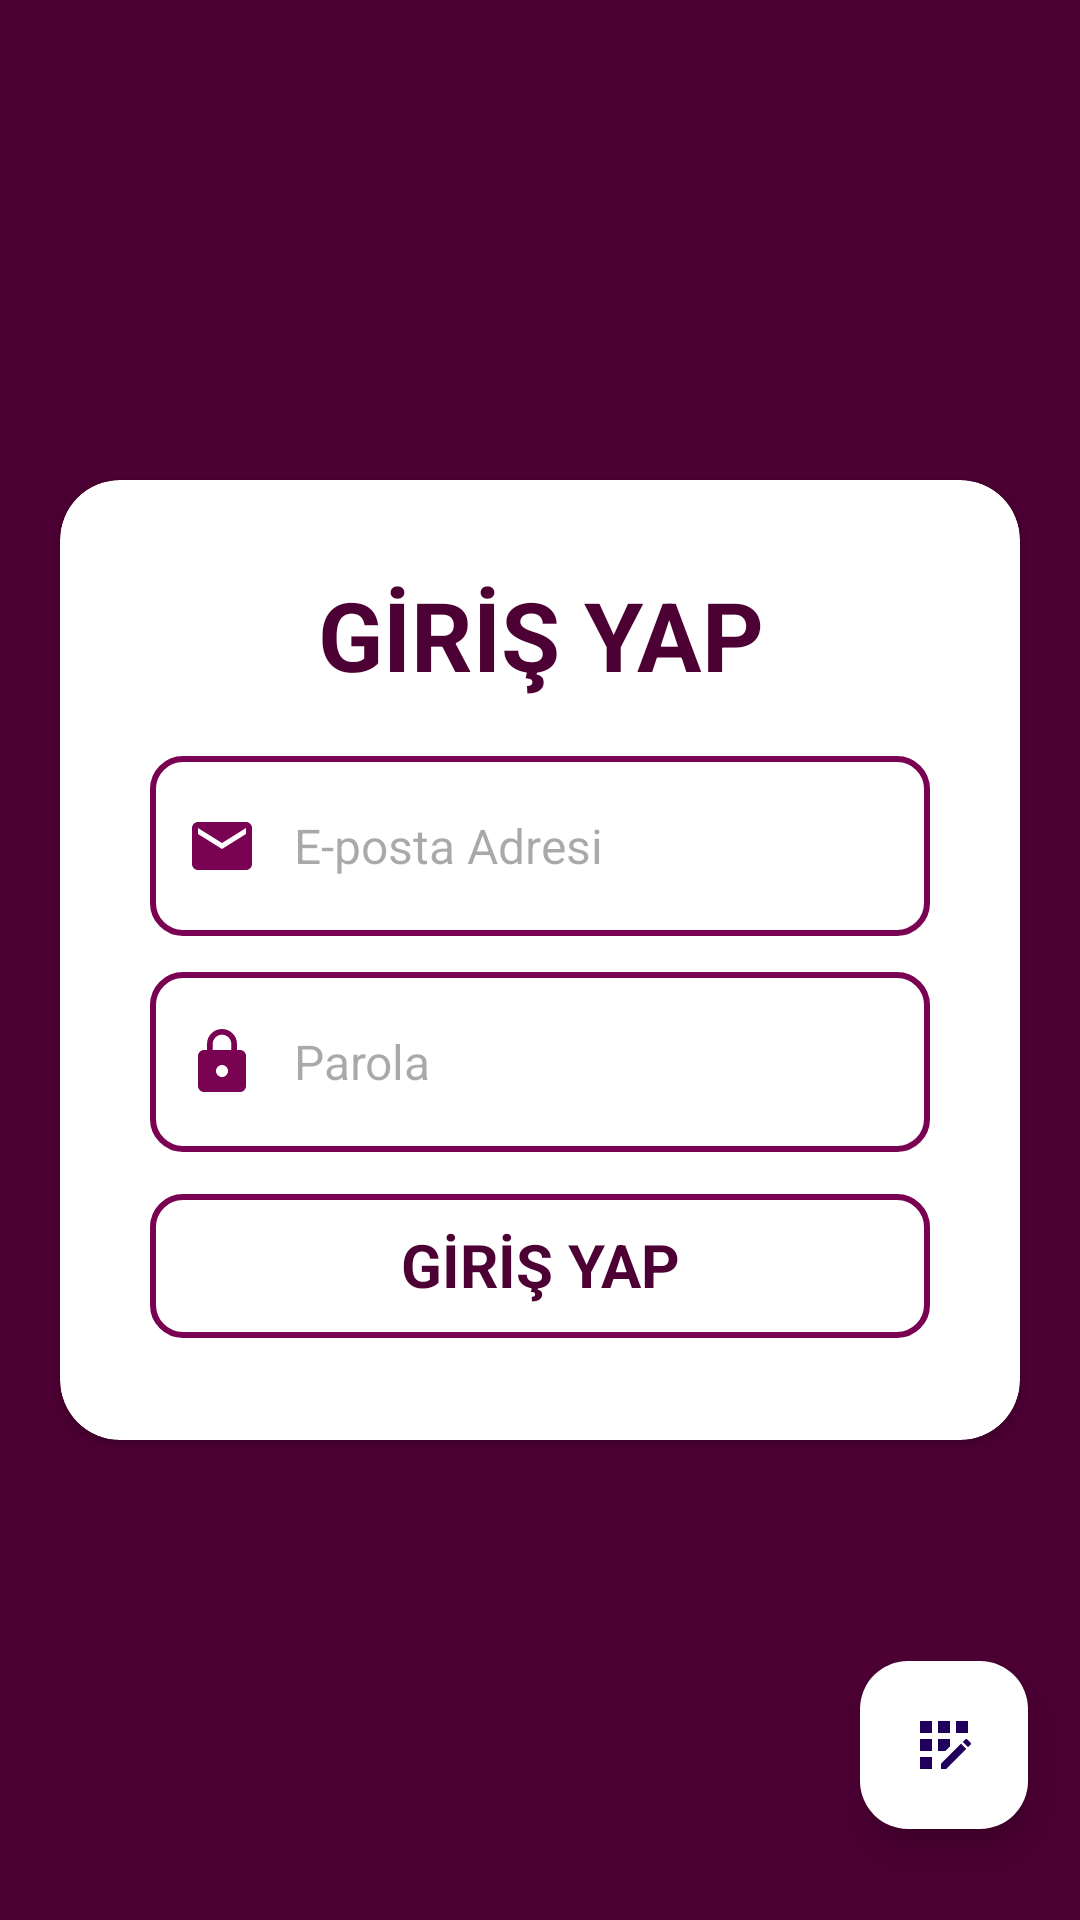

Named icons in this screenshot (1080x1920) and their centers, (x,y):
registration: (944,1745)
